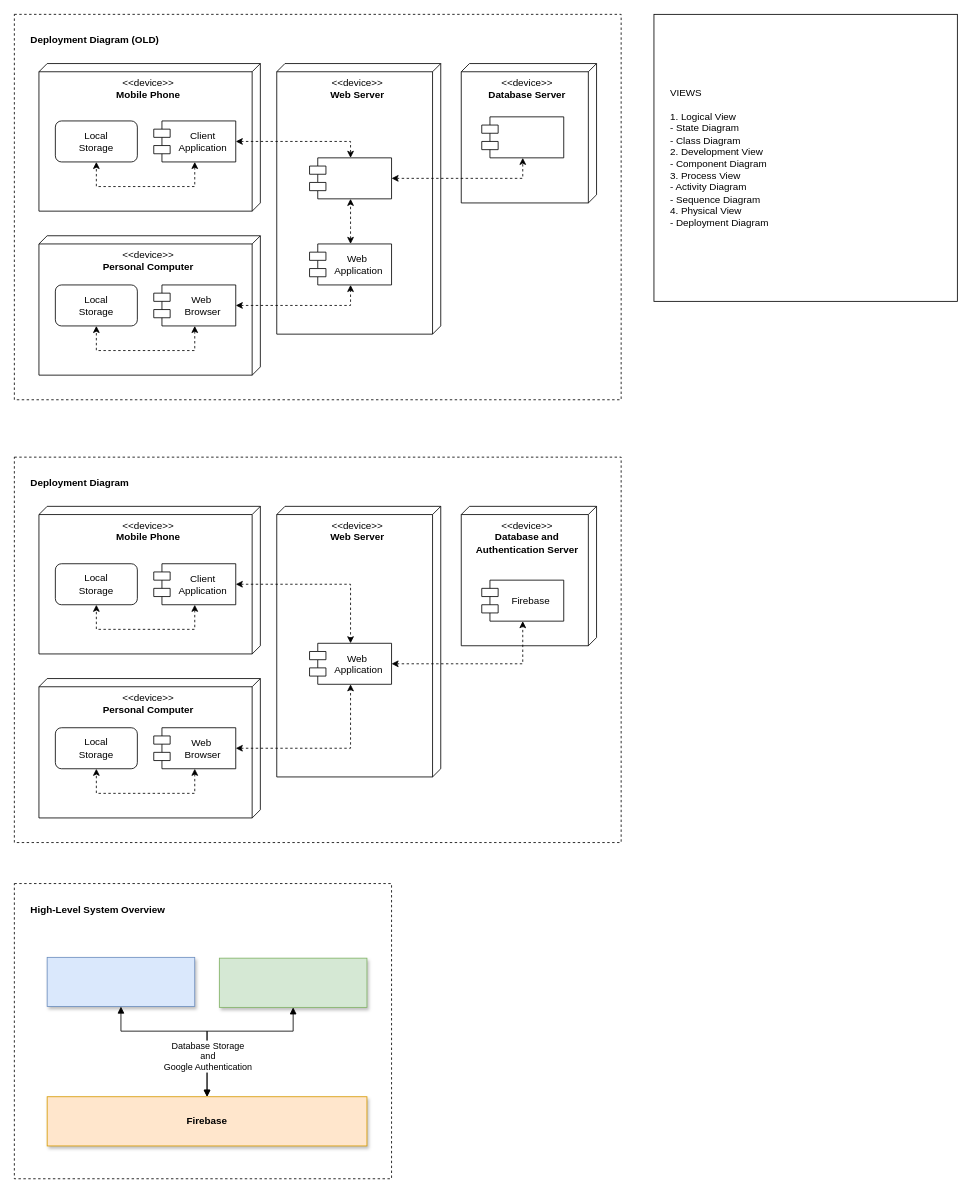
Some shapes in this 972 by 1193 pixel diagram are drawn without their labels. The shapes that lost their labels are listed below. From the top down, each one's centre as x and y in pixels, then its label:
At (x=522, y=137): "PostgreSql Database".
At (x=350, y=178): "API".
At (x=121, y=982): "Web Application (Flutter)".
At (x=293, y=983): "Mobile Apps (Flutter)".
